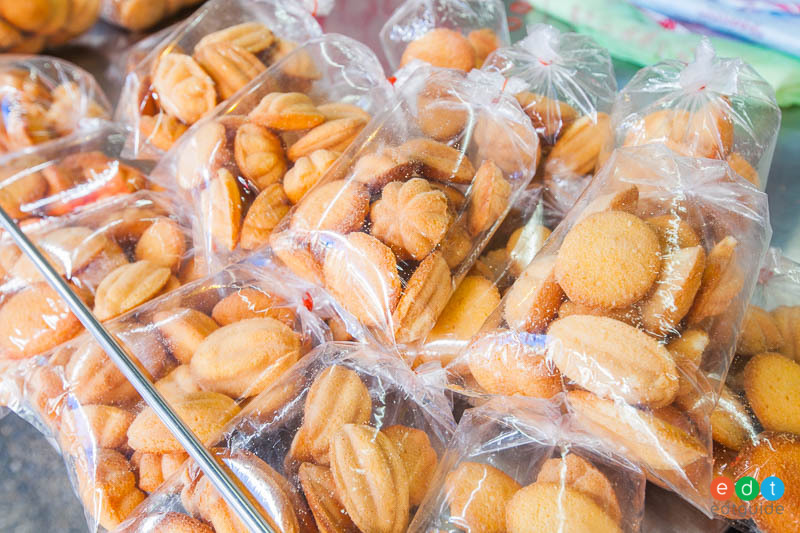kanomkai: (551, 200, 660, 314), (319, 416, 416, 533), (362, 172, 456, 260)
